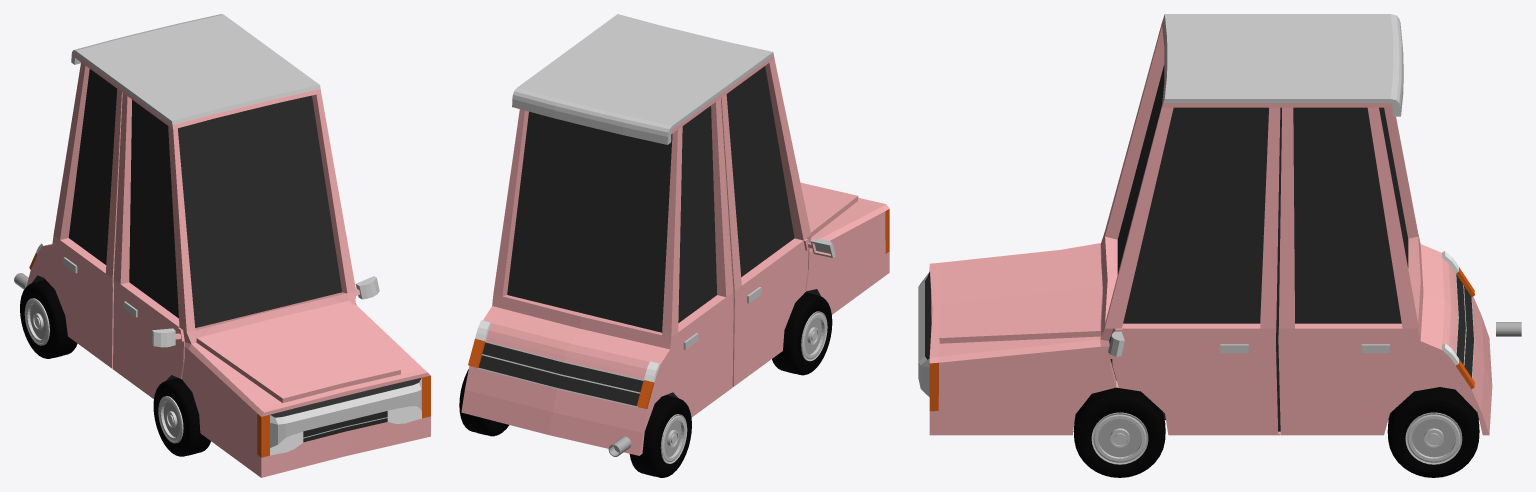
The model's file is CR-CAR-17.fbx.
3 renders of one model, left to right at view 1: azimuth 30°, elevation 25°; view 2: azimuth 150°, elevation 25°; view 3: azimuth 270°, elevation 25°, orthographic. The views are drawn at different scales.
Visible parts, largest first — view 1: BODY, WHEEL.001, WHEEL.004; view 2: BODY, WHEEL.004, WHEEL.001, WHEEL.002; view 3: BODY, WHEEL.003, WHEEL.002.
Boxes of the visible parts, box(x1,y1,x2,y2) form: BODY: box(26, 14, 430, 477); WHEEL.001: box(153, 378, 210, 456); WHEEL.004: box(20, 280, 77, 358); BODY: box(461, 14, 889, 455); WHEEL.004: box(629, 395, 691, 477); WHEEL.001: box(772, 292, 832, 375); WHEEL.002: box(459, 369, 509, 436); BODY: box(918, 14, 1492, 435); WHEEL.003: box(1073, 387, 1165, 477); WHEEL.002: box(1387, 387, 1479, 477).
Bounding box in the file's own units: 131 × 174 × 257.
